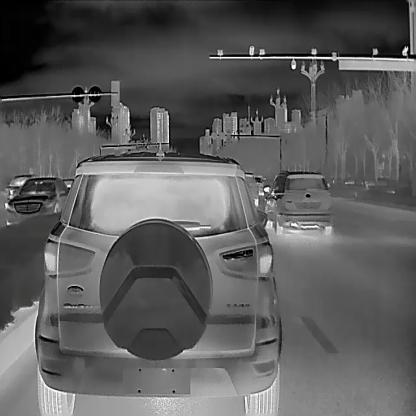car: (34, 152, 283, 415), (261, 169, 332, 236), (4, 176, 69, 225), (2, 174, 36, 197), (242, 171, 257, 207), (253, 175, 263, 194)
